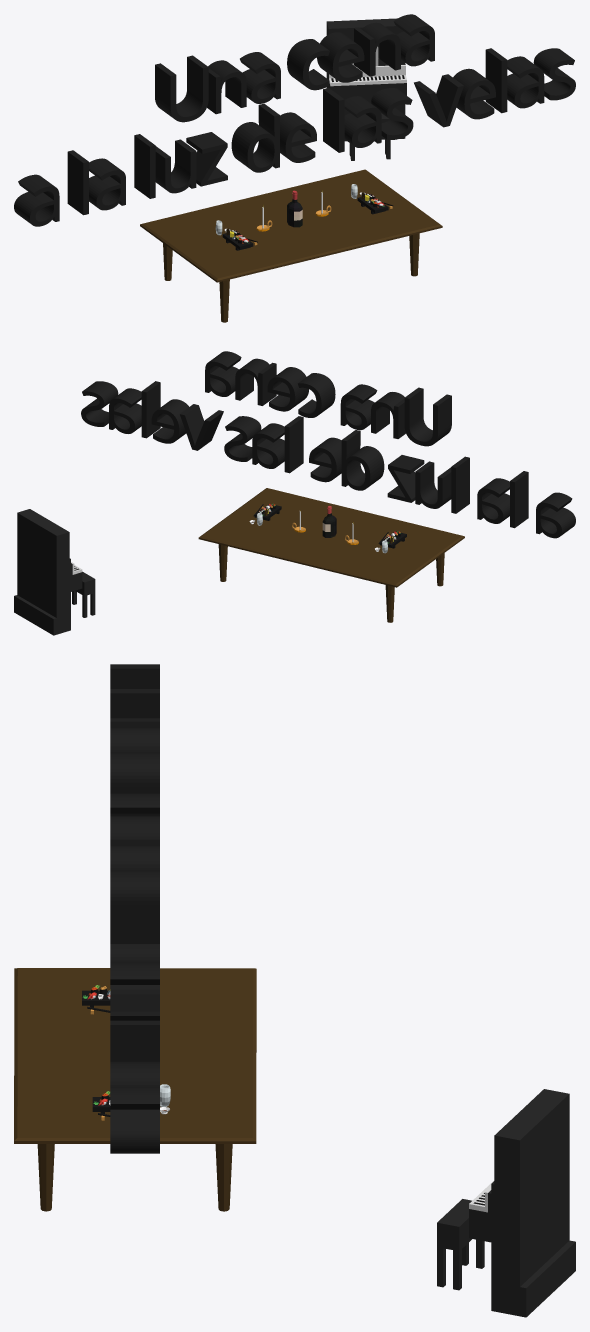
The model's file is coupon_3.gltf.
The picture shows the model from 3 angles, top to bottom: view 1: azimuth 30°, elevation 25°; view 2: azimuth 150°, elevation 25°; view 3: azimuth 270°, elevation 25°; orthographic projection. The views are drawn at different scales.
Parts seen in each view (by area): view 1: Table, 3D Text - a (×6), 3D Text - l (×4), 3D Text - e (×3), 3D Text - n (×2), a poteto made a piano, 3D Text - s (×2), 3D Text - U, 3D Text - d, 3D Text - u, 3D Text - v, 3D Text - z (+2 smaller); view 2: Table, 3D Text - a (×6), a poteto made a piano, 3D Text - l (×4), 3D Text - e (×3), 3D Text - n (×2), 3D Text - s (×2), 3D Text - U, 3D Text - d, 3D Text - u, 3D Text - v, 3D Text - z (+1 smaller); view 3: Table, a poteto made a piano, 3D Text - a (×4), 3D Text - s (×2), 3D Text - n (×2), 3D Text - U, 3D Text - l, 3D Text - v, 3D Text - c, 3D Text - e.
Part boxes in pixels (left/top/right/bottom): Table: left=140, top=169, right=442, bottom=322; 3D Text - a (×6): left=14, top=14, right=544, bottom=226; 3D Text - l (×4): left=67, top=48, right=507, bottom=215; 3D Text - e (×3): left=280, top=32, right=495, bottom=162; 3D Text - n (×2): left=207, top=22, right=400, bottom=114; a poteto made a piano: left=326, top=18, right=406, bottom=160; 3D Text - s (×2): left=371, top=48, right=575, bottom=139; 3D Text - U: left=155, top=55, right=208, bottom=122; 3D Text - d: left=231, top=103, right=279, bottom=172; 3D Text - u: left=155, top=139, right=196, bottom=193; 3D Text - v: left=414, top=74, right=463, bottom=127; 3D Text - z: left=186, top=132, right=227, bottom=186; Table: left=198, top=488, right=464, bottom=622; 3D Text - a (×6): left=109, top=351, right=575, bottom=538; a poteto made a piano: left=14, top=509, right=95, bottom=635; 3D Text - l (×4): left=141, top=381, right=528, bottom=528; 3D Text - e (×3): left=151, top=367, right=341, bottom=482; 3D Text - n (×2): left=235, top=358, right=405, bottom=438; 3D Text - s (×2): left=81, top=381, right=261, bottom=461; 3D Text - U: left=404, top=387, right=451, bottom=446; 3D Text - d: left=341, top=430, right=384, bottom=490; 3D Text - u: left=415, top=461, right=451, bottom=508; 3D Text - v: left=179, top=404, right=223, bottom=450; 3D Text - z: left=387, top=455, right=424, bottom=502; Table: left=14, top=968, right=256, bottom=1211; a poteto made a piano: left=437, top=1089, right=575, bottom=1317; 3D Text - a (×4): left=110, top=752, right=159, bottom=1087; 3D Text - s (×2): left=110, top=962, right=159, bottom=1153; 3D Text - n (×2): left=110, top=718, right=159, bottom=870; 3D Text - U: left=110, top=664, right=159, bottom=718; 3D Text - l: left=110, top=1020, right=159, bottom=1061; 3D Text - v: left=110, top=989, right=159, bottom=1020; 3D Text - c: left=110, top=793, right=159, bottom=816; 3D Text - e: left=110, top=816, right=159, bottom=836.
Size of the model in its own units: 5.79 by 2.41 by 3.29.
26 materials, 2 textured.
